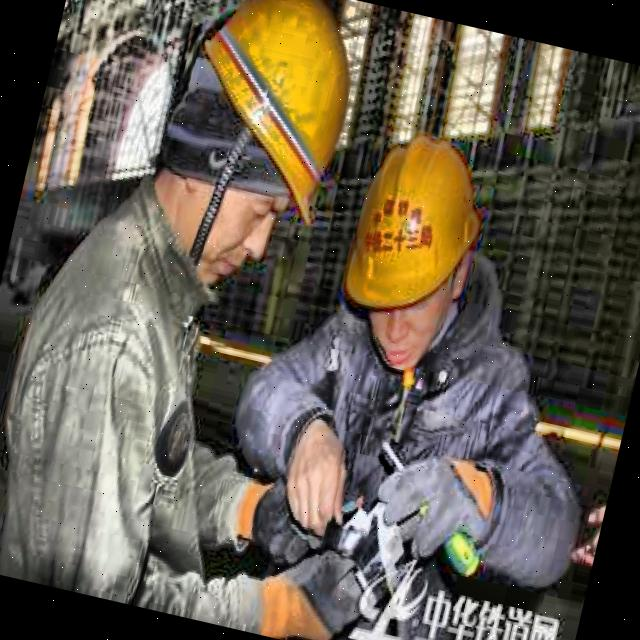helmet: (109, 0, 373, 312), (318, 103, 512, 380)
